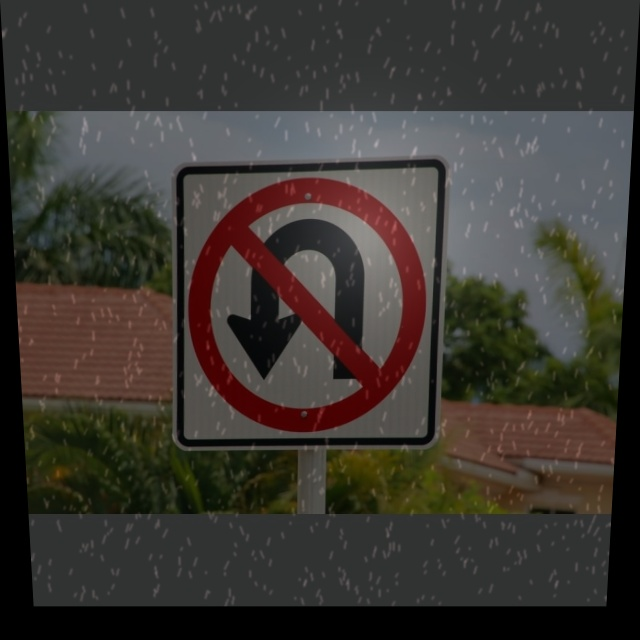U_Turn_Prohibited: (185, 170, 437, 436)
